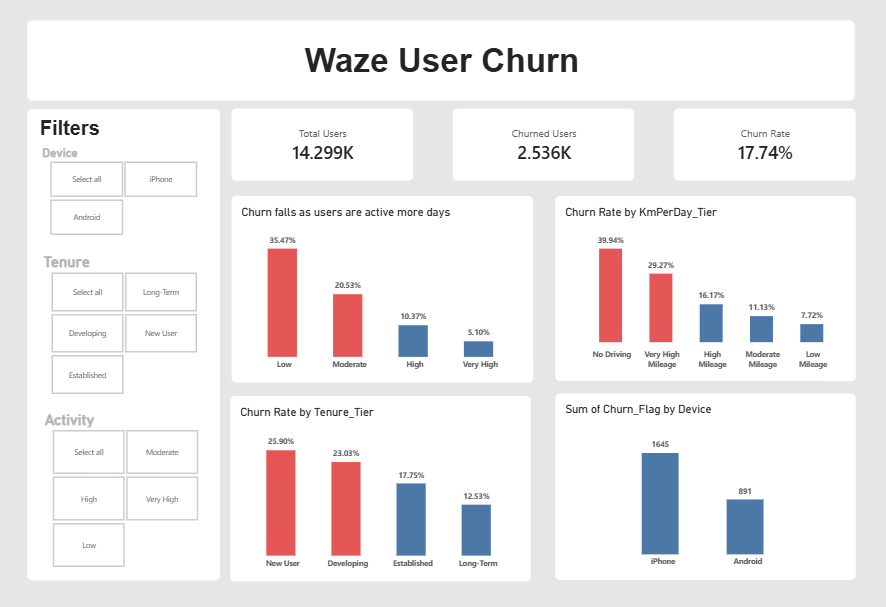

The dashboard page shown, as its layout file describes it:
{"tool":"powerbi","page":{"name":"Page 1","canvas":[1920,1080],"ordinal":0},"visuals":[{"type":"shape","box":[295.6,90.4,1327.5,132.5],"z":0,"group":"g1"},{"type":"shape","box":[295.6,231.6,312.5,757.5],"z":1000,"group":"g1"},{"type":"cardVisual","fields":{"Data":["Waze_Dataset.Total Users"]},"box":[623.1,231.6,292.5,117.5],"z":2000,"group":"g1"},{"type":"cardVisual","fields":{"Data":["Waze_Dataset.Churned Users"]},"box":[978.1,231.6,292.5,117.5],"z":3000,"group":"g1"},{"type":"cardVisual","fields":{"Data":["Waze_Dataset.Churn Rate"]},"box":[1330.6,231.6,292.5,117.5],"z":4000,"group":"g1"},{"type":"clusteredColumnChart","title":"Churn falls as users are active more days","fields":{"Category":["Waze_Dataset.Activity_Tier"],"Y":["Waze_Dataset.Churn Rate"]},"box":[622.6,371.6,484,300],"z":5000,"group":"g1"},{"type":"clusteredColumnChart","fields":{"Category":["Waze_Dataset.Tenure_Tier"],"Y":["Waze_Dataset.Churn Rate"]},"box":[620.6,691.6,482,298],"z":6000,"group":"g1"},{"type":"clusteredColumnChart","fields":{"Category":["Waze_Dataset.KmPerDay_Tier"],"Y":["Waze_Dataset.Churn Rate"]},"box":[1140.6,371.6,482.5,297.5],"z":7000,"group":"g1"},{"type":"clusteredColumnChart","fields":{"Category":["Waze_Dataset.Device"],"Y":["Sum(Waze_Dataset.Churn_Flag)"]},"box":[1140.6,689.2,482.5,300],"z":8000,"group":"g1"},{"type":"slicer","fields":{"Values":["Waze_Dataset.Device"]},"box":[313.1,291.6,275,145],"z":9000,"group":"g1"},{"type":"slicer","fields":{"Values":["Waze_Dataset.Tenure_Tier"]},"box":[315.6,464.2,272.5,227.5],"z":10000,"group":"g1"},{"type":"slicer","fields":{"Values":["Waze_Dataset.Activity_Tier"]},"box":[318.1,716.6,272.5,252.5],"z":11000,"group":"g1"},{"type":"textbox","title":"Waze User Churn","box":[296.8,126.6,1327.5,67.5],"z":12000,"group":"g1"},{"type":"textbox","box":[318,246,152,70],"z":13000,"group":"g1"},{"type":"group","id":"g1","title":"Group 1","box":[295.6,90.4,1328.8,899.2],"z":13001}]}

Visuals, with their boxes on the page's 1920x1080 design canvas (x1, y1, x2, y2). These are canvas units, not pixel positions in the 886x607 screenshot, which may show the page scaled, cropped or inside an application window:
shape: 296, 90, 1623, 223
shape: 296, 232, 608, 989
cardVisual - Waze_Dataset.Total Users: 623, 232, 916, 349
cardVisual - Waze_Dataset.Churned Users: 978, 232, 1271, 349
cardVisual - Waze_Dataset.Churn Rate: 1331, 232, 1623, 349
"Churn falls as users are active more days" clusteredColumnChart: 623, 372, 1107, 672
clusteredColumnChart - Waze_Dataset.Tenure_Tier x Waze_Dataset.Churn Rate: 621, 692, 1103, 990
clusteredColumnChart - Waze_Dataset.KmPerDay_Tier x Waze_Dataset.Churn Rate: 1141, 372, 1623, 669
clusteredColumnChart - Waze_Dataset.Device x Sum(Waze_Dataset.Churn_Flag): 1141, 689, 1623, 989
slicer - Waze_Dataset.Device: 313, 292, 588, 437
slicer - Waze_Dataset.Tenure_Tier: 316, 464, 588, 692
slicer - Waze_Dataset.Activity_Tier: 318, 717, 591, 969
"Waze User Churn" textbox: 297, 127, 1624, 194
textbox: 318, 246, 470, 316
"Group 1" group: 296, 90, 1624, 990
